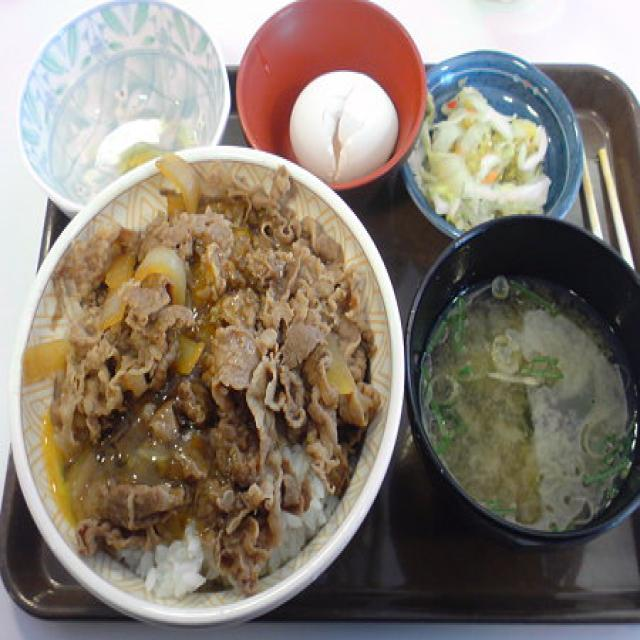汤锅炖物: (442, 297, 640, 640)
